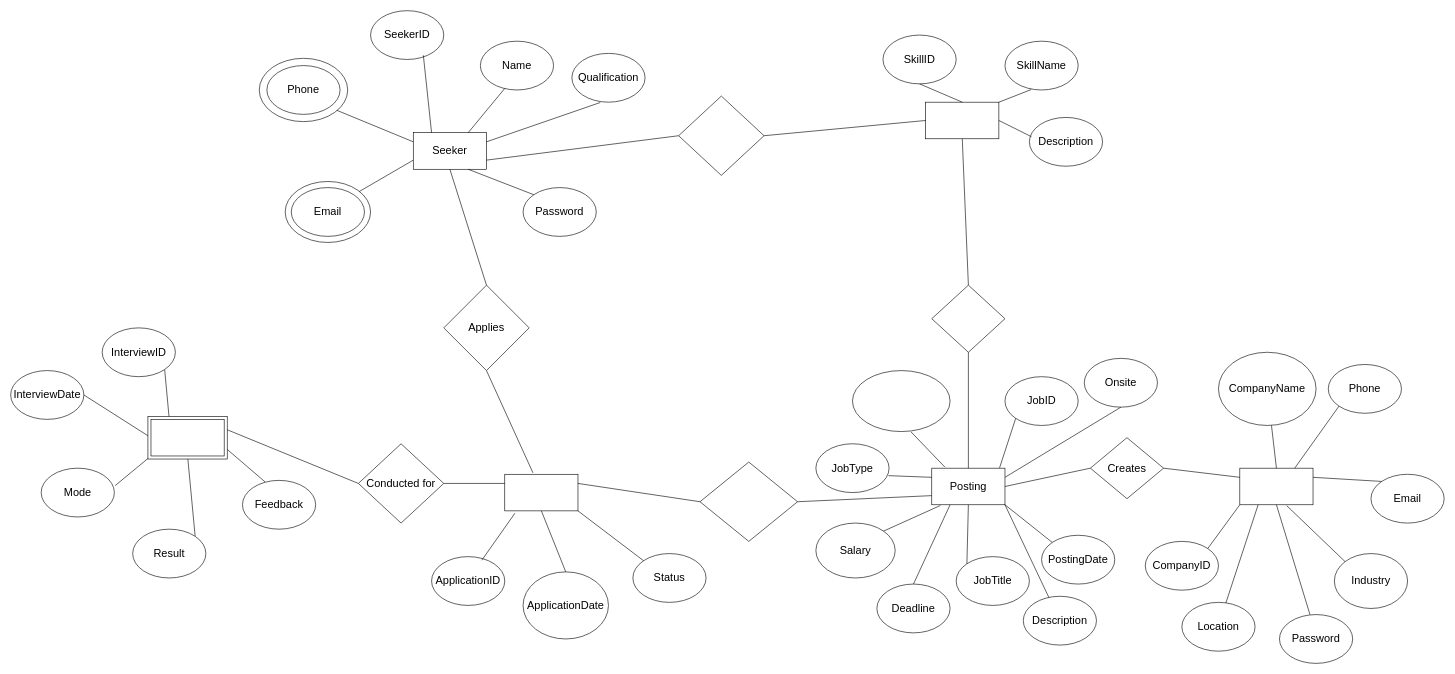
This 1455x674 diagram has some shape labels left out. The shapes that lost their labels are listed below. From the top down, each one's centre as x and y in pixels, then its label:
At point (721, 135): "Possesses".
At point (962, 120): "SkillSet".
At point (968, 318): "Requires".
At point (901, 401): "MinQualification".
At point (187, 437): "Interview".
At point (541, 492): "Application".
At point (748, 501): "applied for".
At point (1276, 486): "Company".
